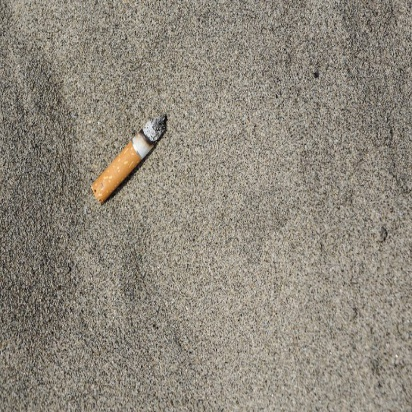cigarette: (93, 111, 171, 205)
